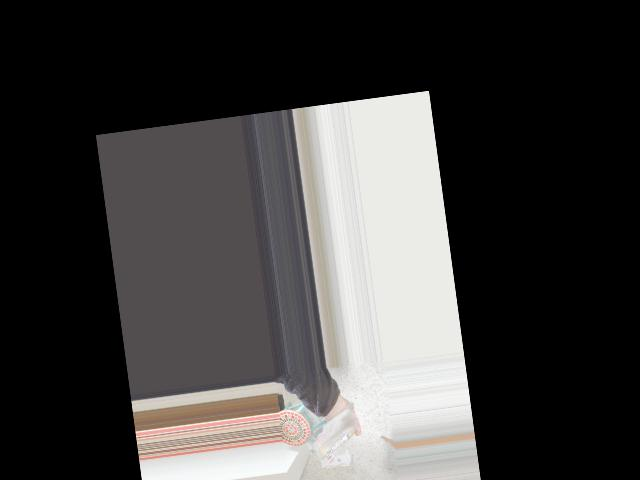cheese: (285, 397, 369, 478)
